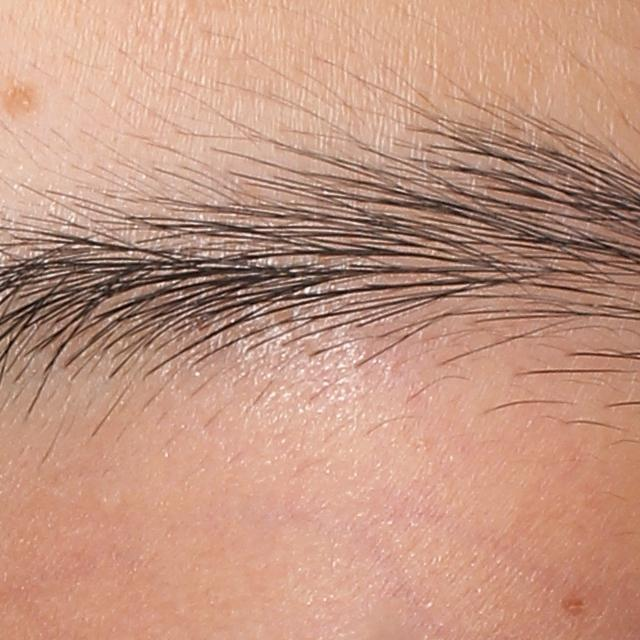nevus: (562, 589, 587, 621)
